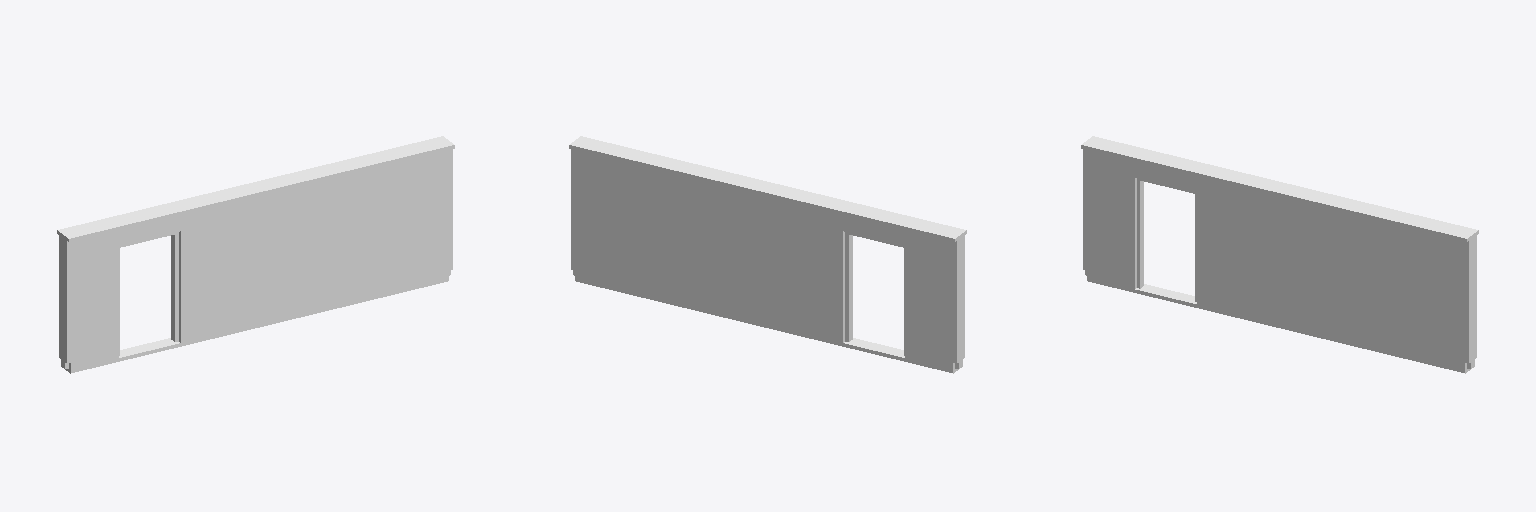
The model's file is classic-wall-inside-door.obj.
The picture shows the model from 3 angles: view 1: azimuth 30°, elevation 25°; view 2: azimuth 150°, elevation 25°; view 3: azimuth 330°, elevation 25°; orthographic projection.
Parts seen in each view (by area): view 1: classic:wall-inside-door; view 2: classic:wall-inside-door; view 3: classic:wall-inside-door.
Boxes of the visible parts, x1,y1,x2,y2 form: classic:wall-inside-door: [57, 136, 454, 373]; classic:wall-inside-door: [569, 136, 966, 373]; classic:wall-inside-door: [1081, 136, 1478, 373].
Size of the model in its own units: 112 by 38 by 6.